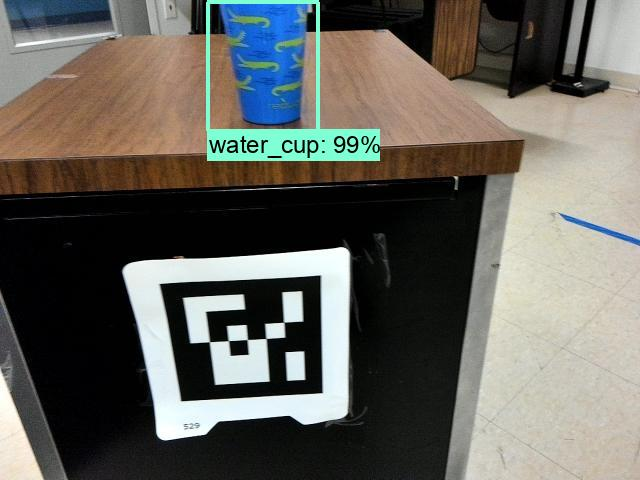water_cup: (211, 1, 320, 130)
